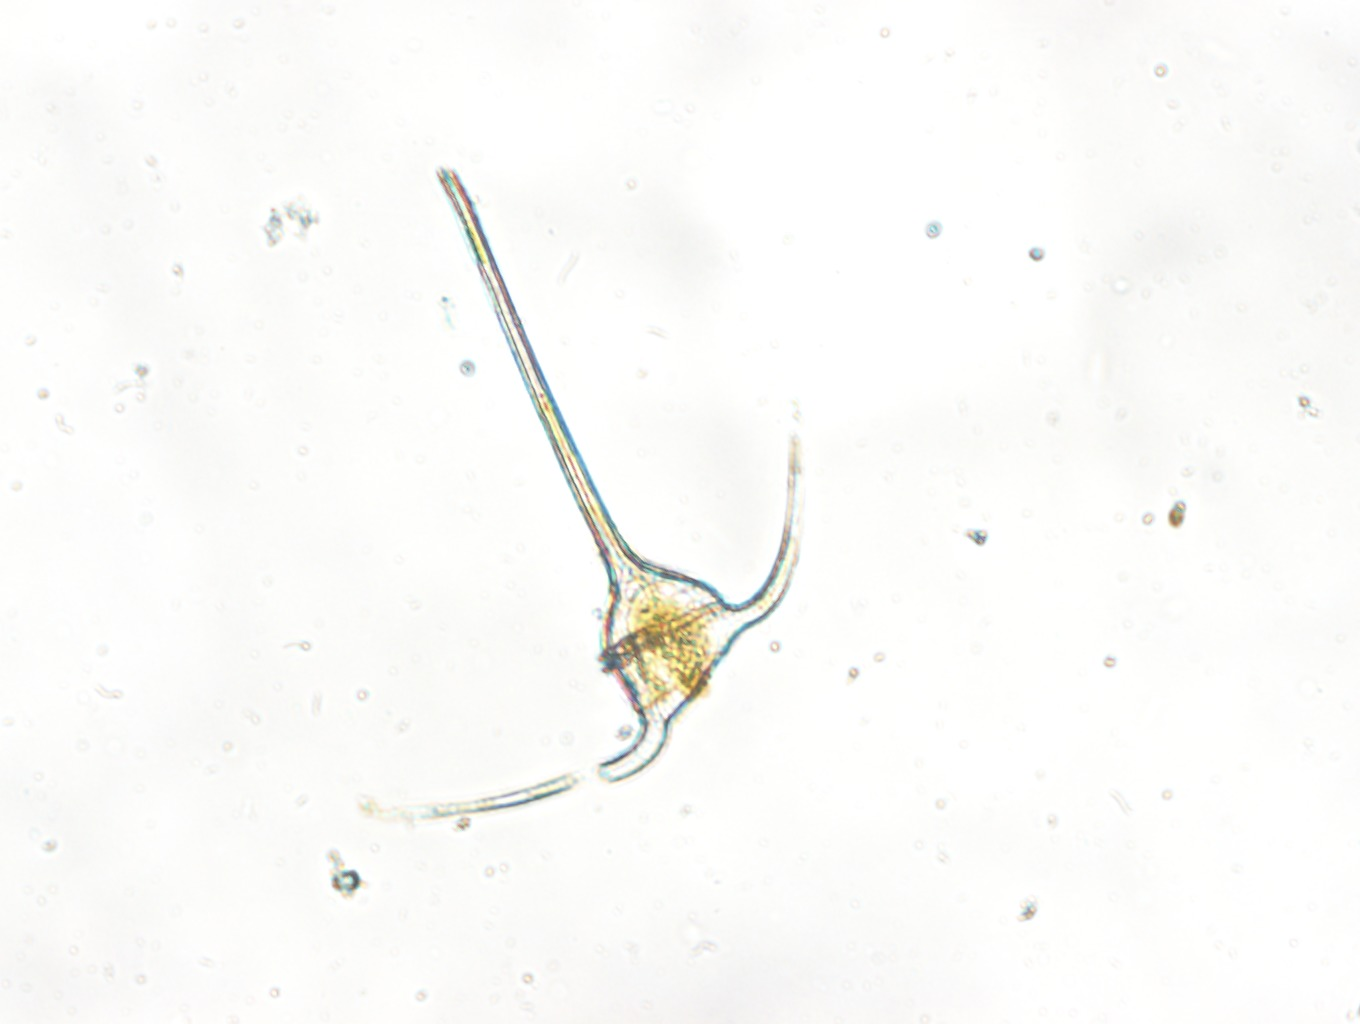ceratium trichoceros: (345, 147, 817, 848)
